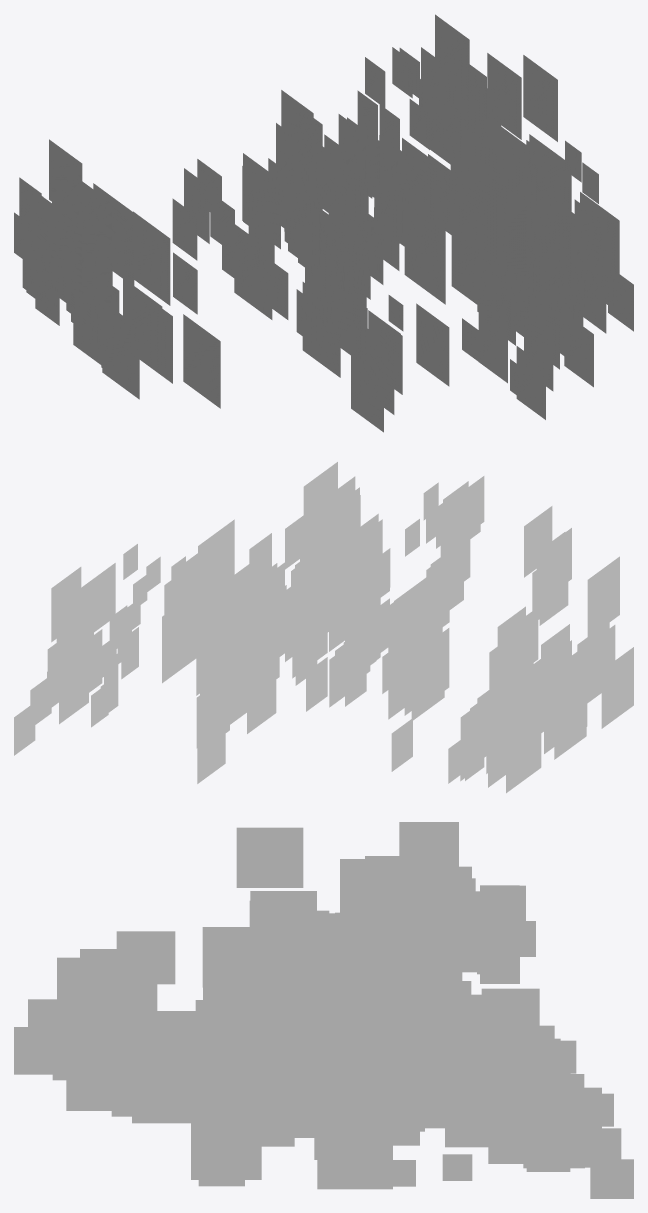
The model's file is GroundMist.glb.
The picture shows the model from 3 angles, top to bottom: view 1: azimuth 30°, elevation 25°; view 2: azimuth 150°, elevation 25°; view 3: azimuth 270°, elevation 25°; orthographic projection. The views are drawn at different scales.
Parts seen in each view (by area): view 1: Plane.011, Plane.038, Plane.018, Plane.126, Plane.059, Plane.032, Plane.086, Plane.003, Plane.069, Plane.005, Plane.118, Plane.180 (+71 smaller); view 2: Plane.011, Plane.018, Plane.032, Plane.059, Plane.038, Plane.069, Plane.096, Plane.001, Plane.055, Plane.005, Plane.098, Plane.136 (+71 smaller); view 3: Plane.051, Plane.032, Plane.057, Plane.141, Plane.150, Plane.024, Plane.069, Plane.086, Plane.055, Plane.067, Plane.159, Plane.048 (+79 smaller).
Part boxes in pixels (x1,y1,x2,y2): Plane.011: (456,159,497,261); Plane.038: (404,201,445,304); Plane.018: (284,172,322,268); Plane.126: (243,153,280,249); Plane.059: (102,305,139,399); Plane.032: (133,211,170,305); Plane.086: (183,314,220,408); Plane.003: (537,192,576,291); Plane.069: (435,14,469,101); Plane.005: (123,279,160,372); Plane.118: (402,138,437,224); Plane.180: (234,224,272,319); Plane.011: (325,495,360,584); Plane.018: (430,540,463,623); Plane.032: (587,556,619,637); Plane.059: (601,647,633,728); Plane.038: (292,589,327,678); Plane.069: (85,563,115,638); Plane.096: (59,648,88,724); Plane.001: (506,702,535,775); Plane.055: (509,607,538,680); Plane.005: (583,625,615,703); Plane.098: (536,532,565,603); Plane.136: (543,640,571,713); Plane.051: (317,1120,392,1189); Plane.032: (236,827,303,887); Plane.057: (125,1024,195,1087); Plane.141: (366,876,439,925); Plane.150: (445,1091,506,1147); Plane.024: (293,1069,369,1137); Plane.069: (488,1029,549,1085); Plane.086: (202,927,261,987); Plane.055: (399,822,458,875); Plane.067: (330,960,384,1009); Plane.159: (274,1052,350,1120); Plane.048: (14,1027,66,1074).
Bounding box in the file's own units: 50.86 × 19.21 × 56.51.
1 material, 1 textured.
